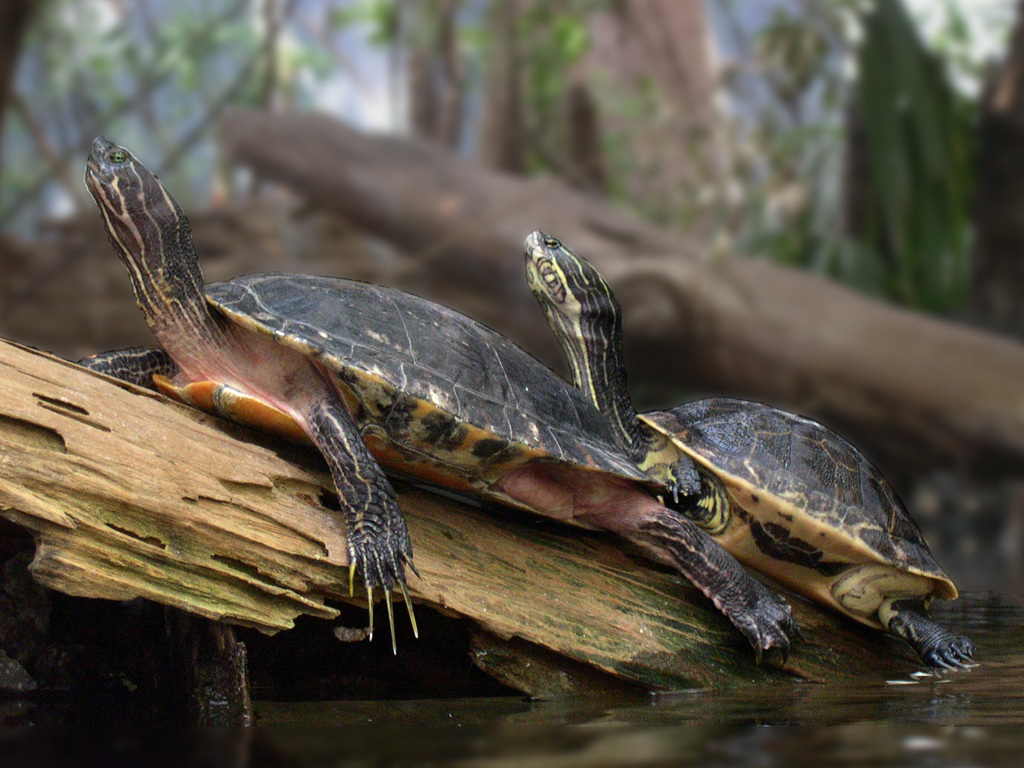Sea turtles: (67, 132, 808, 664), (519, 227, 977, 676)
